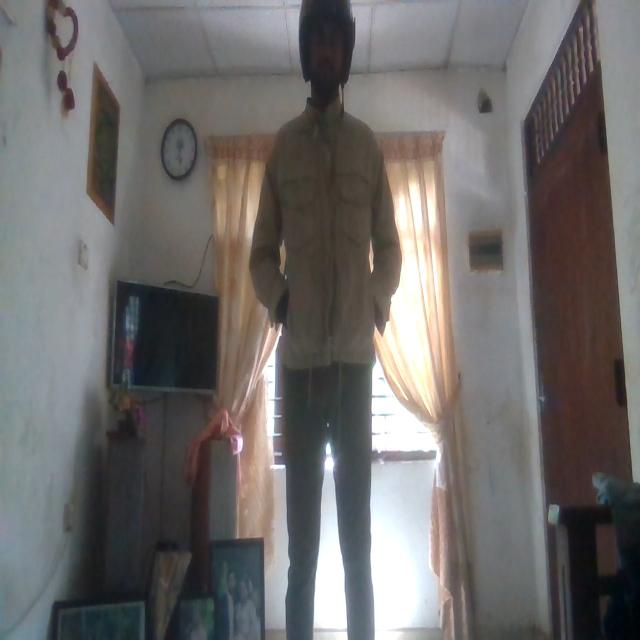Helmet_Wearer: (296, 0, 366, 127)
Jacket_Wearer: (252, 90, 408, 391)
Person: (248, 0, 406, 640)
